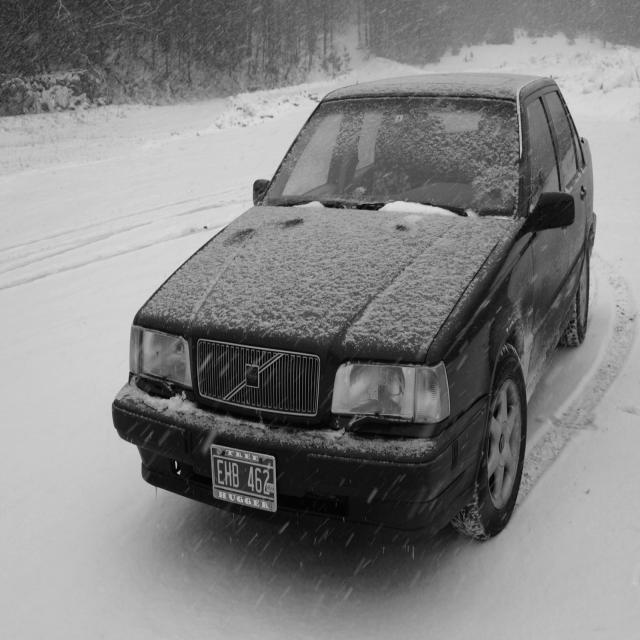car: (111, 71, 597, 547)
plat_license: (209, 443, 278, 513)
